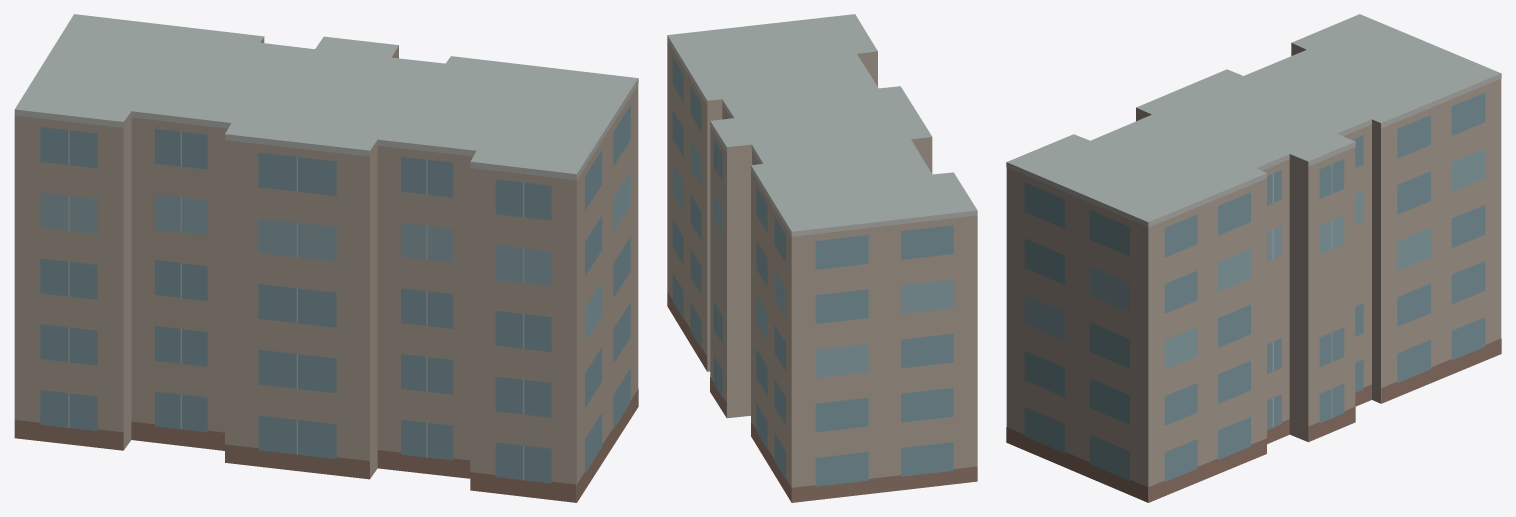
Rendered from survey-upis-32528573.glb.
3 renders of one model, left to right at view 1: azimuth 30°, elevation 25°; view 2: azimuth 150°, elevation 25°; view 3: azimuth 270°, elevation 25°, orthographic. The views are drawn at different scales.
Parts seen in each view (by area): view 1: survey-upis-32528573.tmp; view 2: survey-upis-32528573.tmp; view 3: survey-upis-32528573.tmp.
Boxes of the visible parts, box(x1,y1,x2,y2) form: survey-upis-32528573.tmp: box(14, 14, 638, 502); survey-upis-32528573.tmp: box(667, 14, 977, 502); survey-upis-32528573.tmp: box(1006, 14, 1501, 502).
Size of the model in its own units: 21.02 by 13.2 by 21.1.
